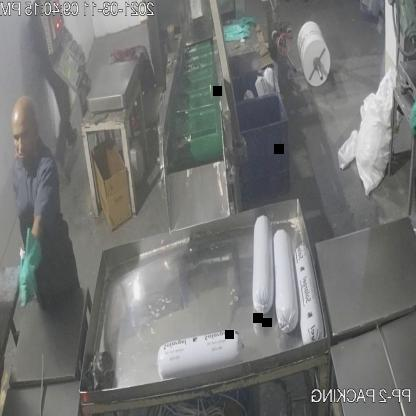glove: (11, 227, 45, 311)
